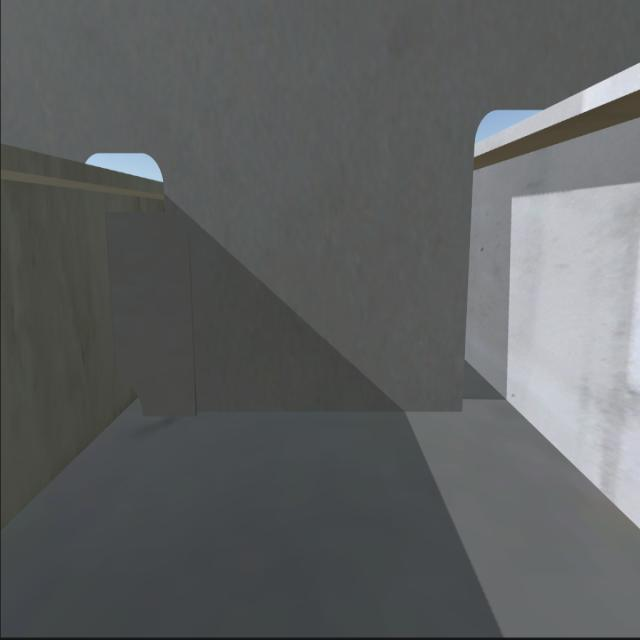fillet_hole: (109, 378, 142, 420)
fillet_yong_jeop_jang: (149, 412, 465, 418)
longi_yong_jeop_jang: (106, 213, 119, 373)
plate_CP03: (114, 210, 188, 411)
